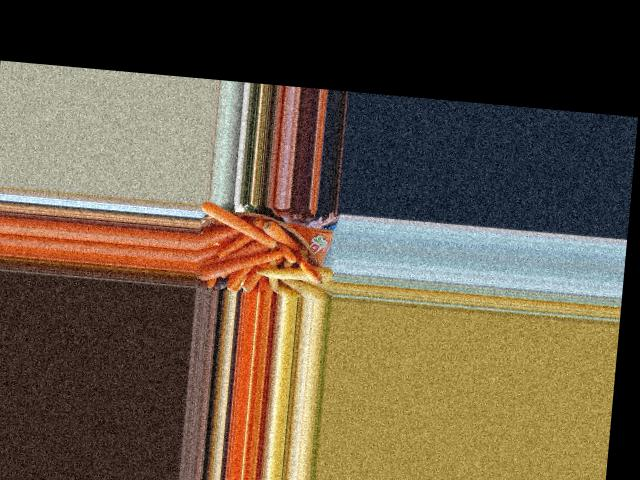carrot: (263, 217, 308, 250)
